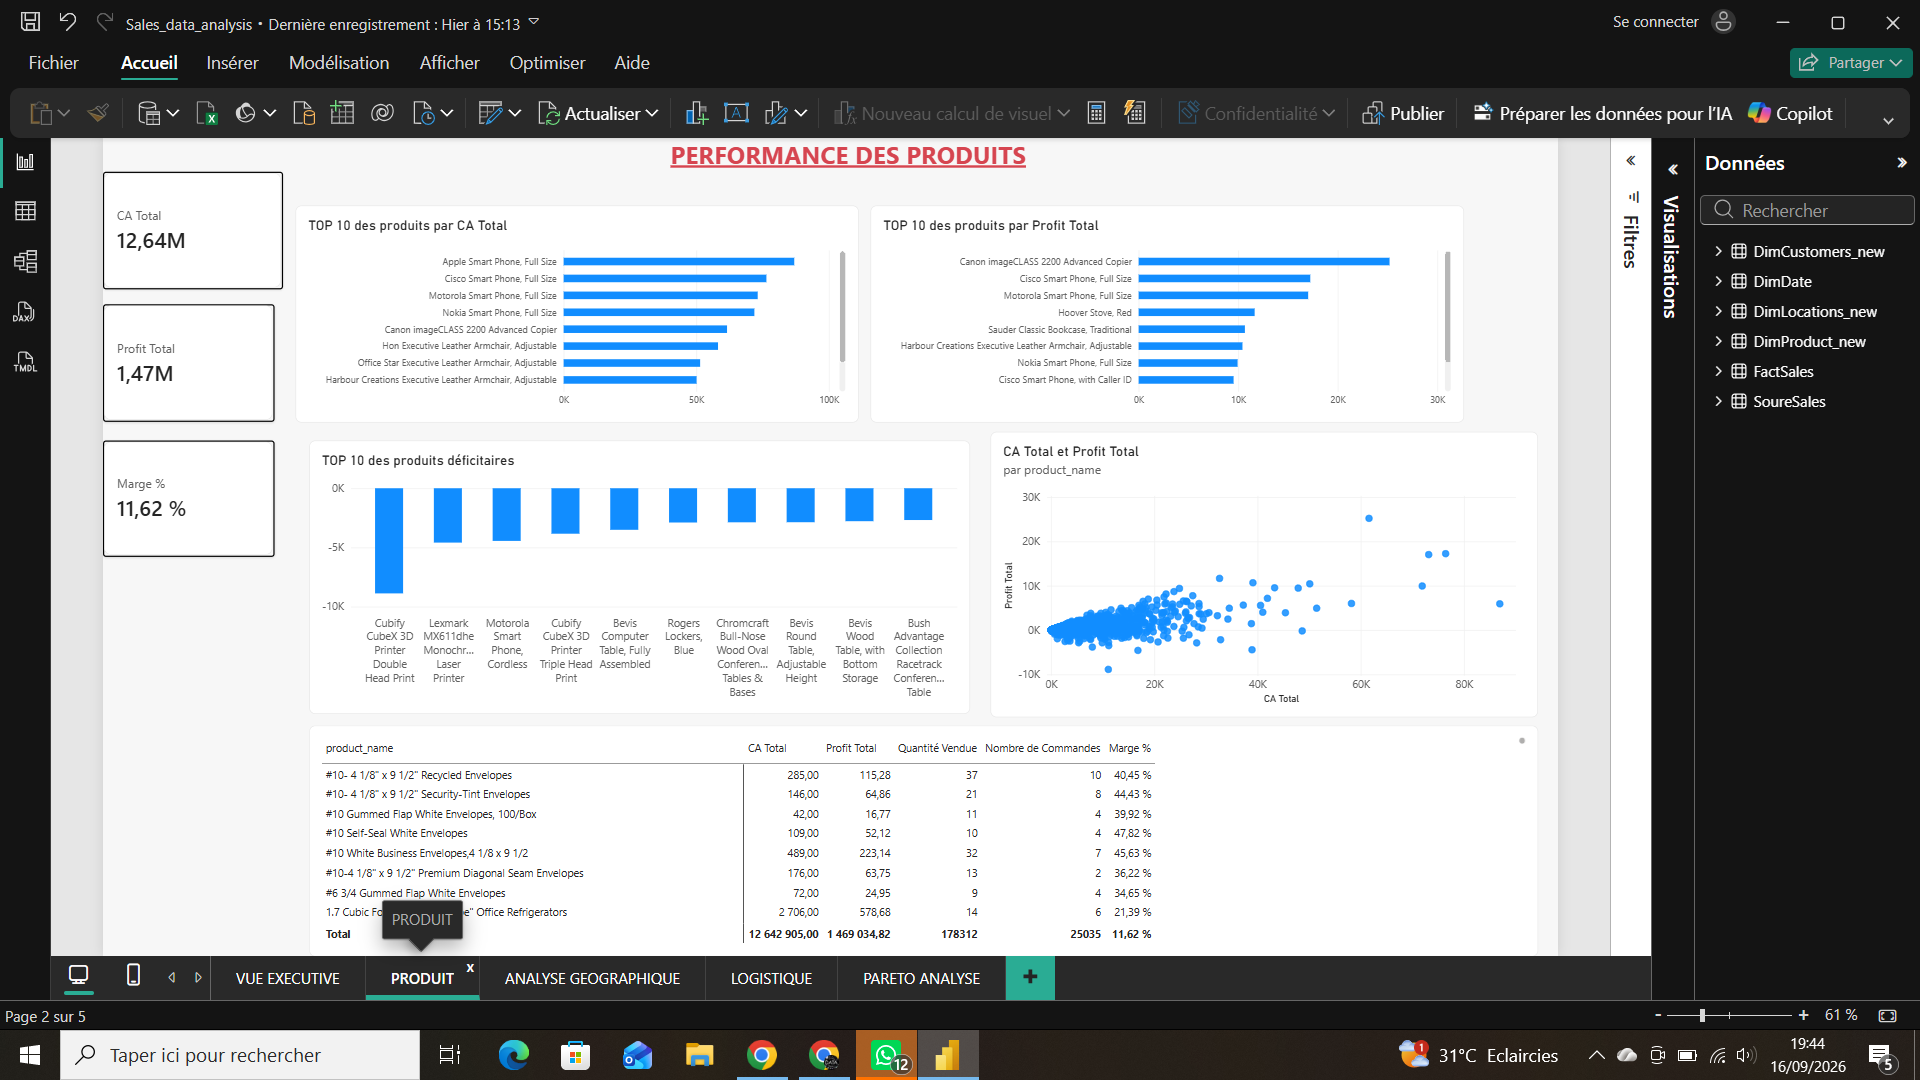

This screenshot's page, from the dashboard's own definition file:
{"tool":"powerbi","page":{"name":"PRODUIT","canvas":[1920,1080],"ordinal":1},"visuals":[{"type":"textbox","box":[627.9,0,709.9,89],"z":0},{"type":"cardVisual","fields":{"Data":["FactSales.CA Total"]},"box":[0,45.3,237.2,155.2],"z":1000},{"type":"cardVisual","fields":{"Data":["FactSales.Profit Total"]},"box":[0,219.8,226.7,155.2],"z":2000},{"type":"cardVisual","fields":{"Data":["FactSales.Marge %"]},"box":[0,399.4,226.7,153.5],"z":3000},{"type":"clusteredBarChart","title":"TOP 10 des produits par CA Total","fields":{"Y":["FactSales.CA Total"],"Category":["DimProduct_new.product_name"]},"box":[254.7,89,743,286],"z":4000},{"type":"clusteredBarChart","title":"TOP 10 des produits par Profit Total","fields":{"Y":["FactSales.Profit Total"],"Category":["DimProduct_new.product_name"]},"box":[1013.4,89,783.1,286],"z":5000},{"type":"clusteredColumnChart","title":"TOP 10 des produits déficitaires","fields":{"Category":["DimProduct_new.product_name"],"Y":["FactSales.Profit Total"]},"box":[272.1,399.4,872.1,361],"z":6000},{"type":"pivotTable","fields":{"Rows":["DimProduct_new.product_name"],"Values":["FactSales.CA Total","FactSales.Profit Total","FactSales.Quantité Vendue","FactSales.Nombre de Commandes","FactSales.Marge %"]},"box":[271.7,776,1622,304.6],"z":7000},{"type":"scatterChart","fields":{"X":["FactSales.CA Total"],"Y":["FactSales.Profit Total"],"Category":["DimProduct_new.product_name"]},"box":[1170.4,387.2,722.1,376.7],"z":8000}]}

Visuals, with their boxes on the page's 1920x1080 design canvas (x1, y1, x2, y2). These are canvas units, not pixel positions in the 1920x1080 screenshot, which may show the page scaled, cropped or inside an application window:
textbox: [628,0,1338,89]
cardVisual - FactSales.CA Total: [0,45,237,200]
cardVisual - FactSales.Profit Total: [0,220,227,375]
cardVisual - FactSales.Marge %: [0,399,227,553]
"TOP 10 des produits par CA Total" clusteredBarChart: [255,89,998,375]
"TOP 10 des produits par Profit Total" clusteredBarChart: [1013,89,1796,375]
"TOP 10 des produits déficitaires" clusteredColumnChart: [272,399,1144,760]
pivotTable - DimProduct_new.product_name x FactSales.CA Total: [272,776,1894,1081]
scatterChart - FactSales.CA Total x FactSales.Profit Total: [1170,387,1892,764]
